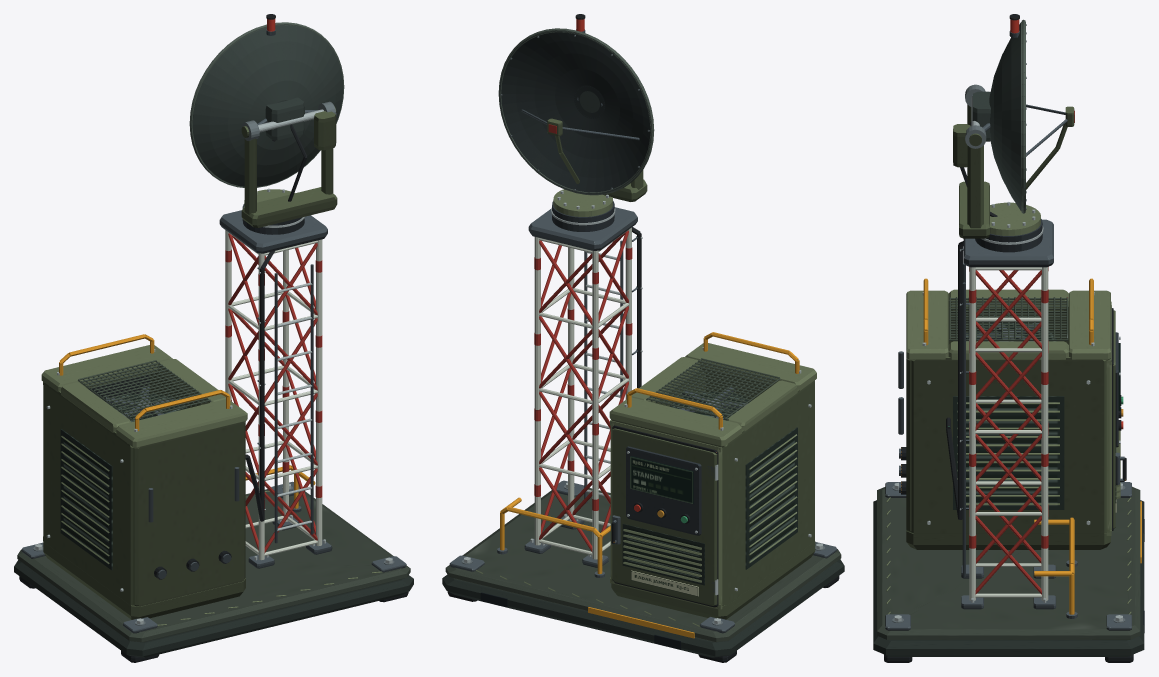
The model's file is radar_jammer_tower_item.obj.
The picture shows the model from 3 angles, left to right: view 1: azimuth 30°, elevation 25°; view 2: azimuth 150°, elevation 25°; view 3: azimuth 270°, elevation 25°; orthographic projection. The views are drawn at different scales.
Parts seen in each view (by area): view 1: cabinet_back_wall, concave_dark_antenna_head, upper_mounting_deck, cabinet_side_wall_-10.6, lower_skid_base, side_vent_recess_-1, cabinet_roof_frame_back, cabinet_bottom_chassis, cabinet_roof_frame_front, yaw_yoke_base, mast_top_cap, white_mast_post_(7.4, 2.4) (+13 smaller); view 2: concave_dark_antenna_head, upper_mounting_deck, cabinet_side_wall_-10.6, olive_service_door, lower_skid_base, side_vent_recess_-1, control_panel_frame, cabinet_roof_frame_front, cabinet_roof_frame_back, cabinet_bottom_chassis, door_front_vent_backing, cabinet_status_screen (+16 smaller); view 3: upper_mounting_deck, cabinet_side_wall_-1.65, side_vent_recess_1, lower_skid_base, concave_dark_antenna_head, cabinet_roof_frame_back, cabinet_bottom_chassis, cabinet_roof_frame_front, white_mast_post_(7.4, -2.4), mast_top_cap, white_mast_post_(7.4, 2.4), cabinet_roof_frame_right (+23 smaller).
Part boxes in pixels (x1,y1,x2,y2): cabinet_back_wall: [133, 422, 245, 606]; concave_dark_antenna_head: [192, 25, 343, 186]; upper_mounting_deck: [17, 489, 410, 642]; cabinet_side_wall_-10.6: [43, 382, 134, 605]; lower_skid_base: [14, 560, 413, 657]; side_vent_recess_-1: [60, 429, 112, 570]; cabinet_roof_frame_back: [116, 399, 247, 448]; cabinet_bottom_chassis: [43, 542, 245, 619]; cabinet_roof_frame_front: [41, 345, 172, 392]; yaw_yoke_base: [241, 187, 337, 227]; mast_top_cap: [219, 210, 327, 253]; white_mast_post_(7.4, 2.4): [316, 239, 322, 545]; concave_dark_antenna_head: [499, 31, 651, 193]; upper_mounting_deck: [445, 488, 841, 642]; cabinet_side_wall_-10.6: [722, 381, 814, 605]; olive_service_door: [612, 428, 717, 605]; lower_skid_base: [442, 559, 844, 657]; side_vent_recess_-1: [745, 427, 797, 569]; control_panel_frame: [626, 446, 701, 535]; cabinet_roof_frame_front: [609, 397, 741, 447]; cabinet_roof_frame_back: [685, 343, 816, 390]; cabinet_bottom_chassis: [611, 541, 815, 619]; door_front_vent_backing: [622, 524, 704, 585]; cabinet_status_screen: [630, 456, 693, 503]; upper_mounting_deck: [877, 486, 1140, 639]; cabinet_side_wall_-1.65: [911, 357, 1106, 533]; side_vent_recess_1: [953, 396, 1064, 509]; lower_skid_base: [873, 500, 1144, 656]; concave_dark_antenna_head: [989, 22, 1025, 211]; cabinet_roof_frame_back: [906, 290, 948, 360]; cabinet_bottom_chassis: [906, 530, 1110, 549]; cabinet_roof_frame_front: [1069, 290, 1110, 360]; white_mast_post_(7.4, -2.4): [1041, 267, 1048, 600]; mast_top_cap: [963, 219, 1053, 267]; white_mast_post_(7.4, 2.4): [969, 267, 975, 600]; cabinet_roof_frame_right: [948, 341, 1068, 359].
Bounding box in the file's own units: 1.5 × 2.77 × 1.13.
